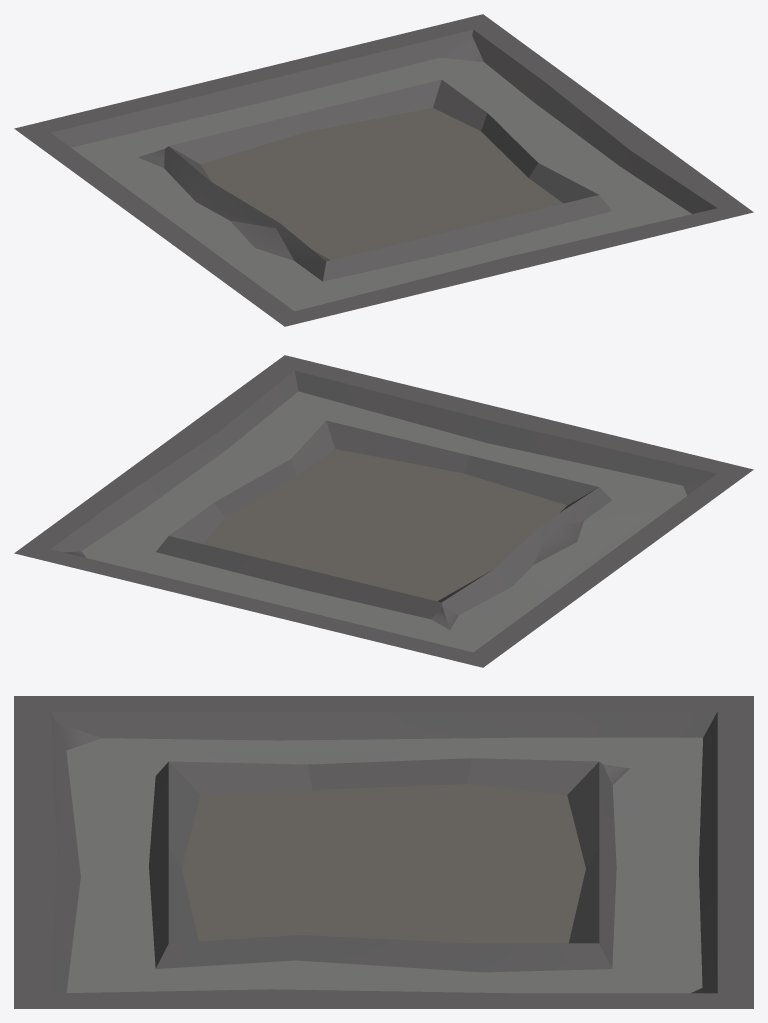
The model's file is SM_Env_Ceiling_Stone_Flat_01.glb.
3 views of the same model, one above another, from view 1: azimuth 30°, elevation 25°; view 2: azimuth 150°, elevation 25°; view 3: azimuth 270°, elevation 25° (orthographic). The views are drawn at different scales.
Visible parts, largest first — view 1: SM_Env_Ceiling_Stone_Flat_01; view 2: SM_Env_Ceiling_Stone_Flat_01; view 3: SM_Env_Ceiling_Stone_Flat_01.
Boxes of the visible parts, left/top/right/bottom form: SM_Env_Ceiling_Stone_Flat_01: left=14, top=14, right=753, bottom=326; SM_Env_Ceiling_Stone_Flat_01: left=14, top=355, right=753, bottom=667; SM_Env_Ceiling_Stone_Flat_01: left=14, top=696, right=753, bottom=1008.
Size of the model in its own units: 0.05 by 0.0015 by 0.05.
Materials: 1 (1 with a texture image).
